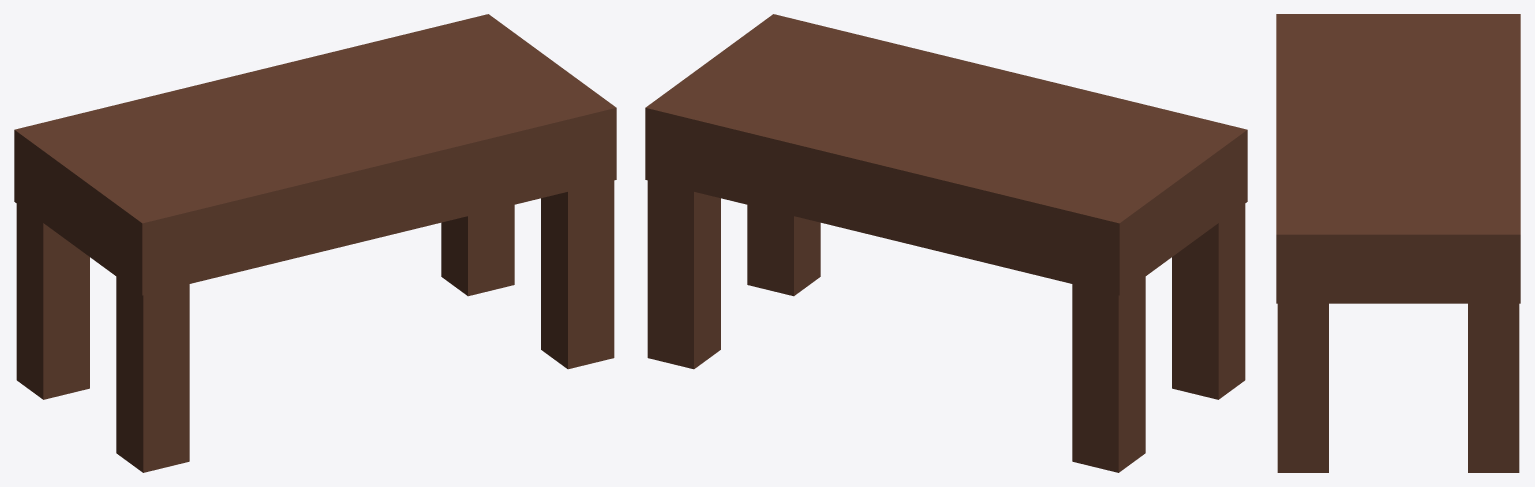
Rendered from Table_Tall.fbx.
3 renders of one model, left to right at view 1: azimuth 30°, elevation 25°; view 2: azimuth 150°, elevation 25°; view 3: azimuth 270°, elevation 25°, orthographic. The views are drawn at different scales.
Visible parts, largest first — view 1: Table Tal, Cube.001; view 2: Table Tal, Cube.001; view 3: Table Tal, Cube.001.
Part boxes in pixels (x1,y1,x2,y2): Table Tal: (14, 14, 616, 295); Cube.001: (16, 180, 614, 472); Table Tal: (645, 14, 1247, 295); Cube.001: (647, 180, 1245, 472); Table Tal: (1276, 14, 1520, 303); Cube.001: (1277, 303, 1519, 472).
Bounding box in the file's own units: 122 × 61.66 × 57.17.
